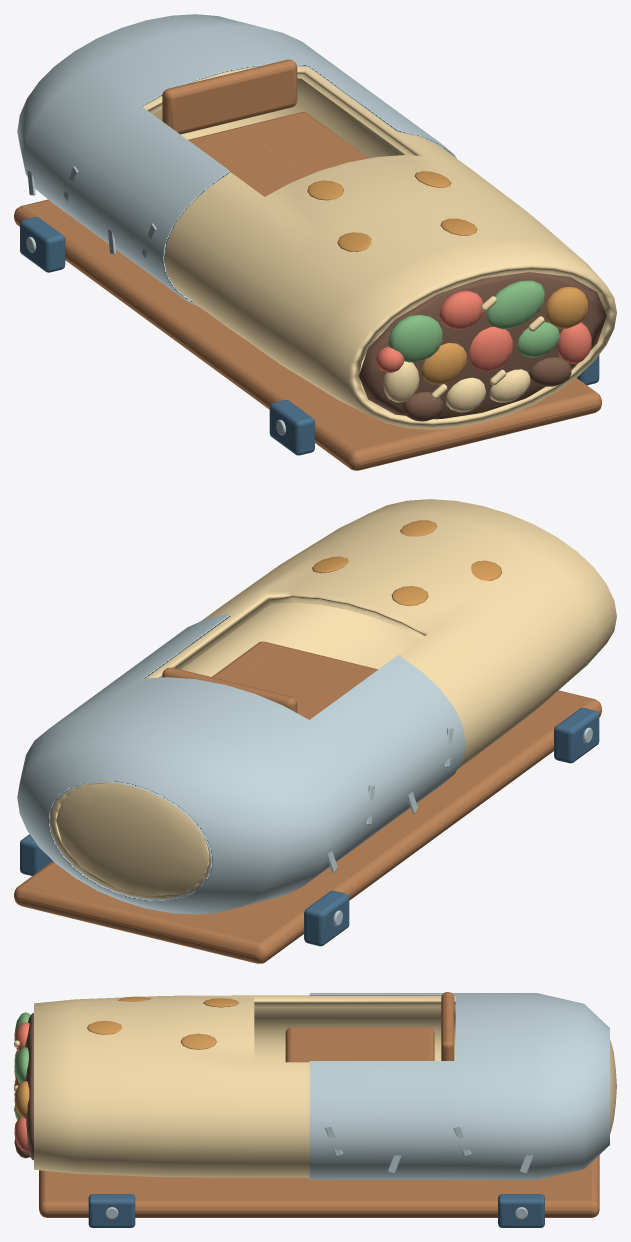
File: mission_burrito.glb
3 renders of one model, top to bottom at view 1: azimuth 30°, elevation 25°; view 2: azimuth 150°, elevation 25°; view 3: azimuth 270°, elevation 25°, orthographic. The views are drawn at different scales.
Visible parts, largest first — view 1: mission_burrito_Burrito Tortilla, mission_burrito_Burrito Satin Foil, mission_burrito_Burrito Seat Wood, mission_burrito_Burrito Pinto Beans, mission_burrito_Burrito Lettuce Mint, mission_burrito_Burrito Toasted Gold, mission_burrito_Burrito Tomato Coral, mission_burrito_Burrito Mount Cobalt; view 2: mission_burrito_Burrito Tortilla, mission_burrito_Burrito Satin Foil, mission_burrito_Burrito Seat Wood, mission_burrito_Burrito Mount Cobalt, mission_burrito_Burrito Toasted Gold; view 3: mission_burrito_Burrito Tortilla, mission_burrito_Burrito Satin Foil, mission_burrito_Burrito Seat Wood, mission_burrito_Burrito Mount Cobalt, mission_burrito_Burrito Toasted Gold, mission_burrito_Burrito Pinto Beans, mission_burrito_Burrito Tomato Coral, mission_burrito_Burrito Lettuce Mint.
Boxes of the visible parts, <box> form: mission_burrito_Burrito Tortilla: <box>143,66,616,429</box>; mission_burrito_Burrito Satin Foil: <box>17,14,456,435</box>; mission_burrito_Burrito Seat Wood: <box>14,59,601,470</box>; mission_burrito_Burrito Pinto Beans: <box>359,272,606,421</box>; mission_burrito_Burrito Lettuce Mint: <box>389,280,559,362</box>; mission_burrito_Burrito Toasted Gold: <box>245,119,587,384</box>; mission_burrito_Burrito Tomato Coral: <box>376,290,591,372</box>; mission_burrito_Burrito Mount Cobalt: <box>20,217,599,455</box>; mission_burrito_Burrito Tortilla: <box>50,499,616,899</box>; mission_burrito_Burrito Satin Foil: <box>17,614,592,926</box>; mission_burrito_Burrito Seat Wood: <box>14,641,601,963</box>; mission_burrito_Burrito Mount Cobalt: <box>20,707,599,946</box>; mission_burrito_Burrito Toasted Gold: <box>232,520,501,715</box>; mission_burrito_Burrito Tortilla: <box>14,995,616,1177</box>; mission_burrito_Burrito Satin Foil: <box>105,993,609,1219</box>; mission_burrito_Burrito Seat Wood: <box>39,992,599,1217</box>; mission_burrito_Burrito Mount Cobalt: <box>88,1194,544,1227</box>; mission_burrito_Burrito Toasted Gold: <box>14,996,420,1118</box>; mission_burrito_Burrito Pinto Beans: <box>14,1013,33,1159</box>; mission_burrito_Burrito Tomato Coral: <box>14,1022,29,1151</box>; mission_burrito_Burrito Lettuce Mint: <box>14,1012,30,1119</box>.
Size of the model in its own units: 1.69 by 0.984 by 3.47.
